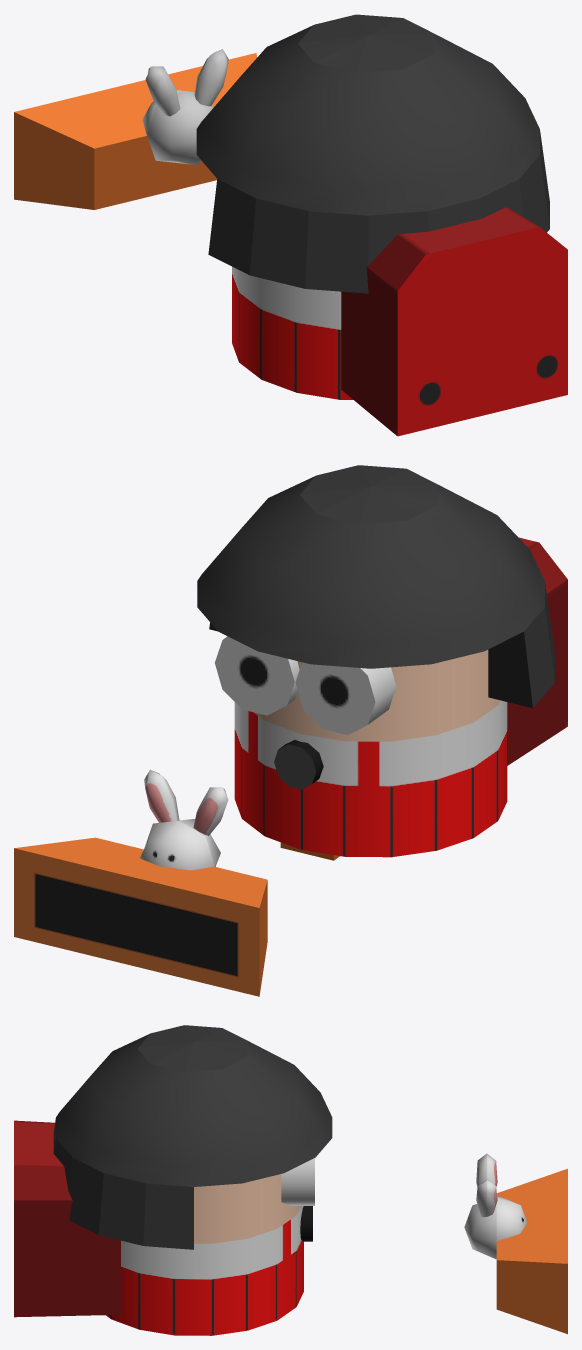
Rendered from 小王子.fbx.
The picture shows the model from 3 angles, top to bottom: view 1: azimuth 30°, elevation 25°; view 2: azimuth 150°, elevation 25°; view 3: azimuth 270°, elevation 25°; orthographic projection. The views are drawn at different scales.
Visible parts, largest first — view 1: Box006, Object001, Box003; view 2: Box006, Object001, Box003, Object002; view 3: Box006, Object001, Box003, Object002.
Part boxes in pixels (x1,y1,x2,y2): Box006: (196,14,567,436); Object001: (14,53,256,209); Box003: (142,49,228,165); Box006: (197,465,567,860); Object001: (14,837,267,996); Box003: (140,769,228,870); Object002: (274,740,323,789); Box006: (14,1025,332,1335); Object001: (496,1168,567,1334); Box003: (464,1153,527,1259); Object002: (300,1206,312,1241).
Bounding box in the file's own units: 79.52 × 75.47 × 148.
